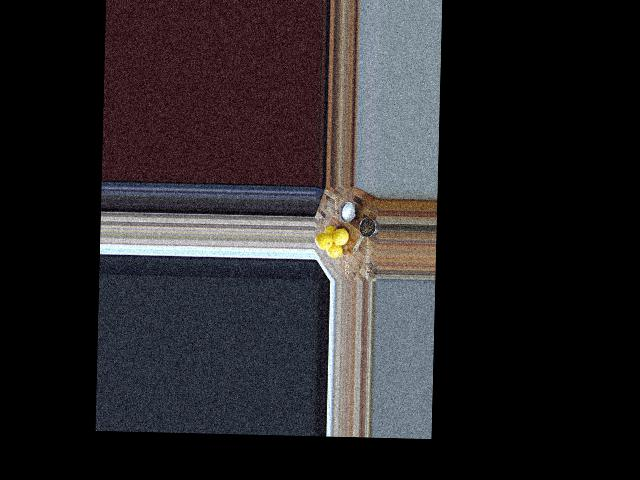lemon: (324, 223, 337, 237)
